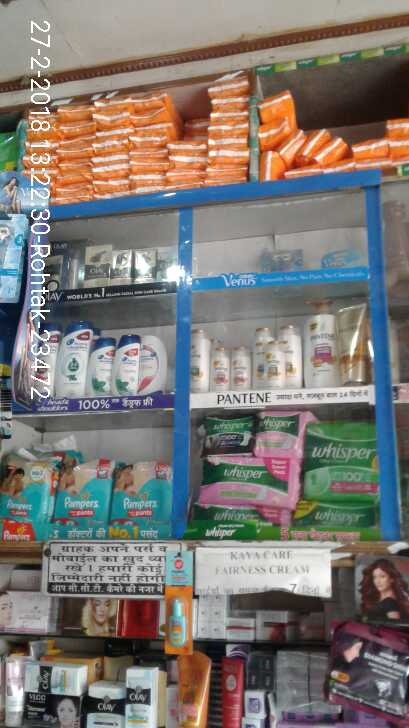venus: (260, 242, 306, 267), (315, 248, 367, 267)
